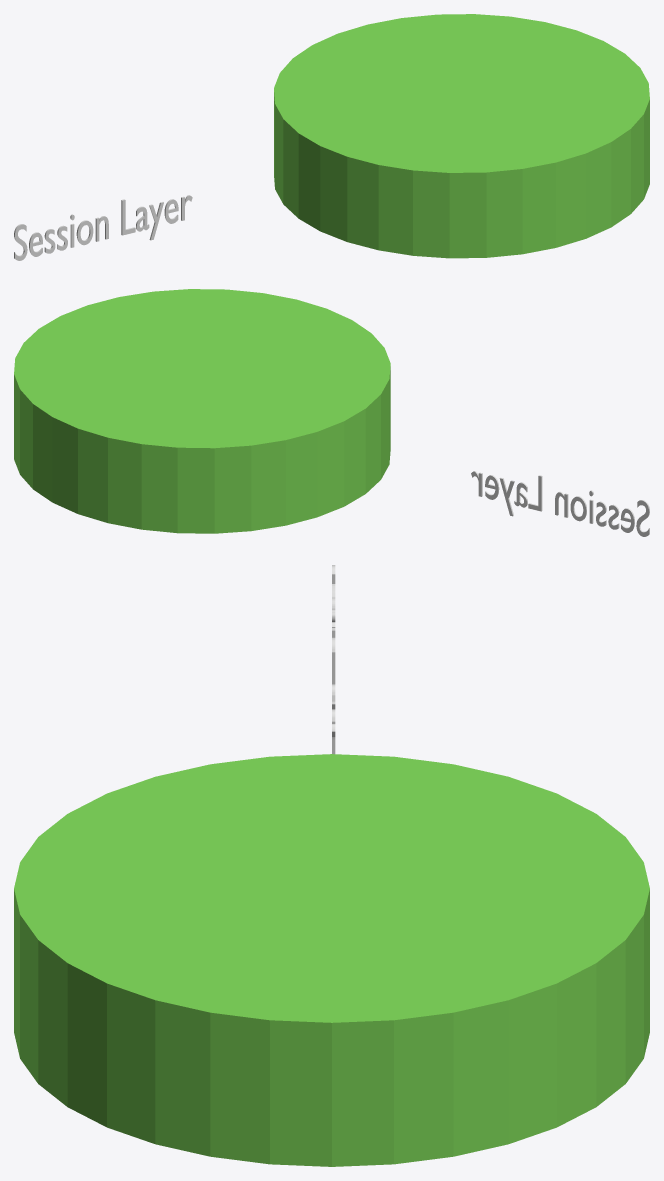
3 views of the same model, one above another, from view 1: azimuth 30°, elevation 25°; view 2: azimuth 150°, elevation 25°; view 3: azimuth 270°, elevation 25° (orthographic). The views are drawn at different scales.
Parts seen in each view (by area): view 1: Silinder.004, Teks.004; view 2: Silinder.004, Teks.004; view 3: Silinder.004.
Boxes of the visible parts, x1,y1,x2,y2 form: Silinder.004: (274,14,649,258); Teks.004: (14,195,192,260); Silinder.004: (14,289,390,533); Teks.004: (471,471,649,536); Silinder.004: (14,754,649,1166).
Size of the model in its own units: 374 by 50 by 200.
